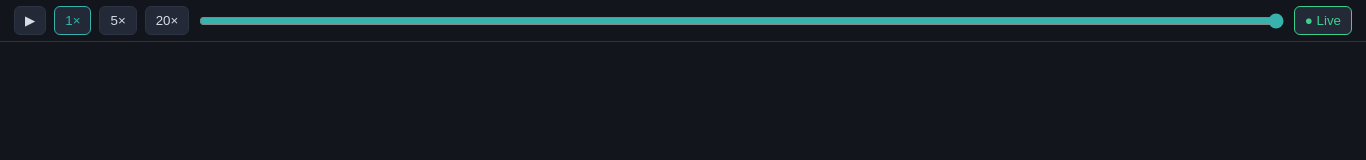
it: slider přetáčí, rychlosti se přepínají, live chip svítí na konci
This screenshot has width=1366, height=160.
Set the slider named "Pozice dne" to "40": (639,20) [199,12,1284,28]
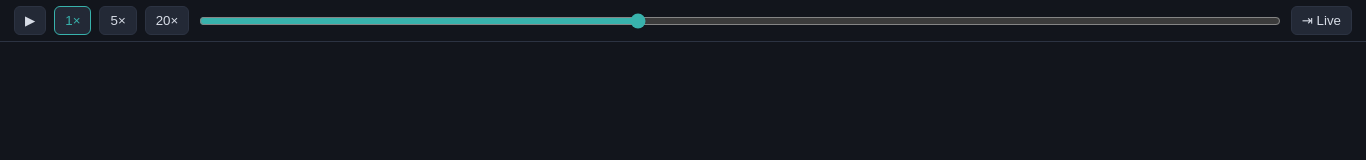
Click the button "20×": (167,20) [145,6,189,35]
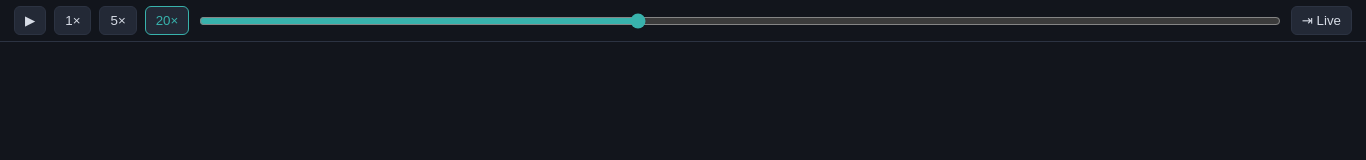
Expected: the button "20×" has class "active", [145,6,189,35]
Click the button with aria-label "Návrat na live": (1321,20) [1291,6,1352,35]
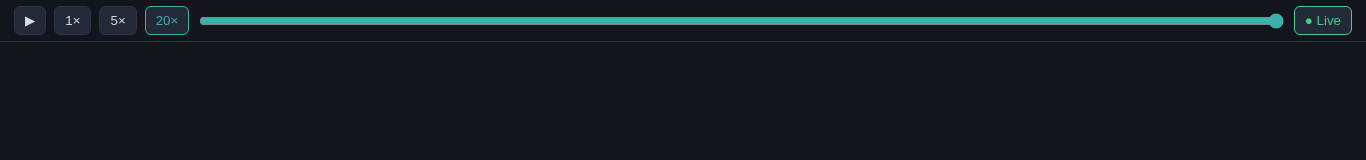
Expected: the slider named "Pozice dne" holds "99", [199,12,1284,28]
